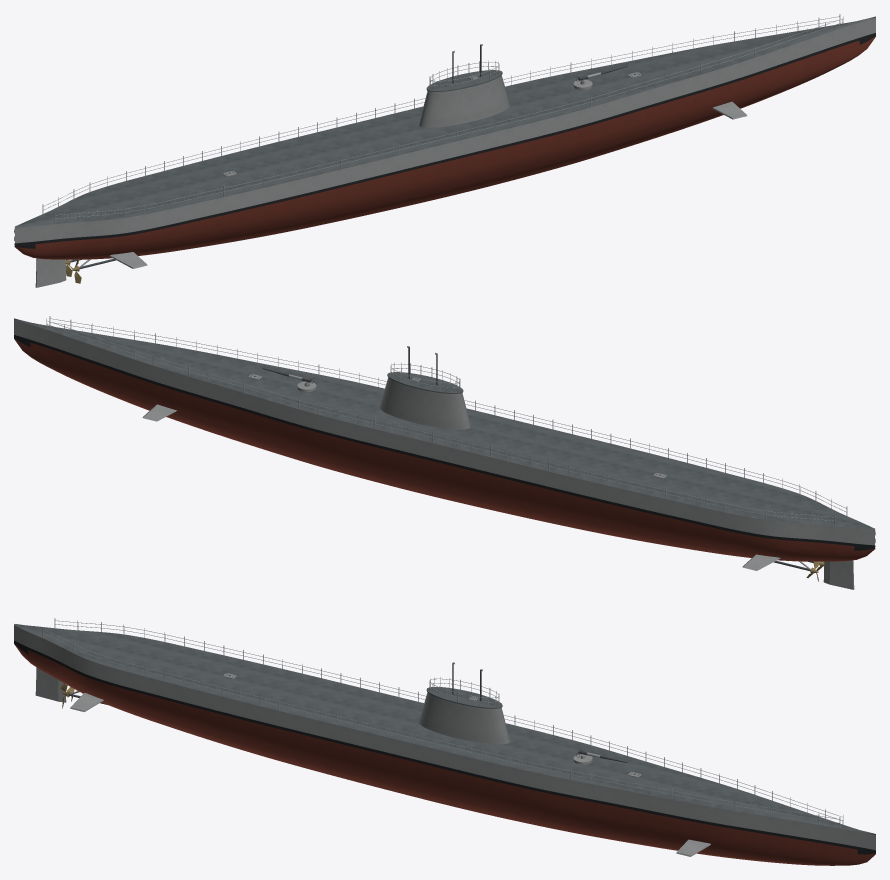
Rendered from ecole_ss28.glb.
The picture shows the model from 3 angles, top to bottom: view 1: azimuth 30°, elevation 25°; view 2: azimuth 150°, elevation 25°; view 3: azimuth 330°, elevation 25°; orthographic projection.
Visible parts, largest first — view 1: École ocean submarine; view 2: École ocean submarine; view 3: École ocean submarine.
Boxes of the visible parts, x1,y1,x2,y2 form: École ocean submarine: (14, 14, 875, 287); École ocean submarine: (14, 316, 875, 589); École ocean submarine: (14, 618, 875, 865).
Bounding box in the file's own units: 89 × 13.71 × 11.27.
6 materials, 6 textured.
